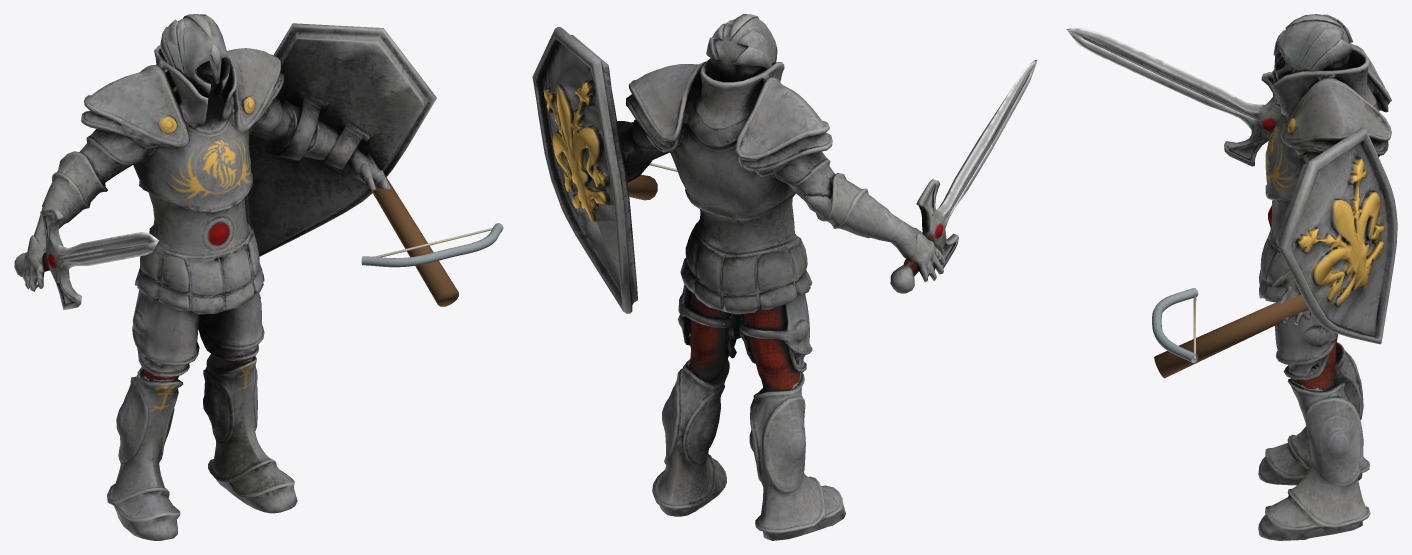
File: actor-crossbowman.glb
3 views of the same model, side by side, from view 1: azimuth 30°, elevation 25°; view 2: azimuth 150°, elevation 25°; view 3: azimuth 270°, elevation 25° (orthographic).
Visible parts, largest first — view 1: Group61487.001 · posed; view 2: Group61487.001 · posed; view 3: Group61487.001 · posed.
Boxes of the visible parts, box(x1,y1,x2,y2) form: Group61487.001 · posed: box(14, 14, 503, 540); Group61487.001 · posed: box(532, 14, 1037, 540); Group61487.001 · posed: box(1066, 14, 1397, 540).
Size of the model in its own units: 1.81 by 2 by 1.22.
4 materials, 1 textured.
